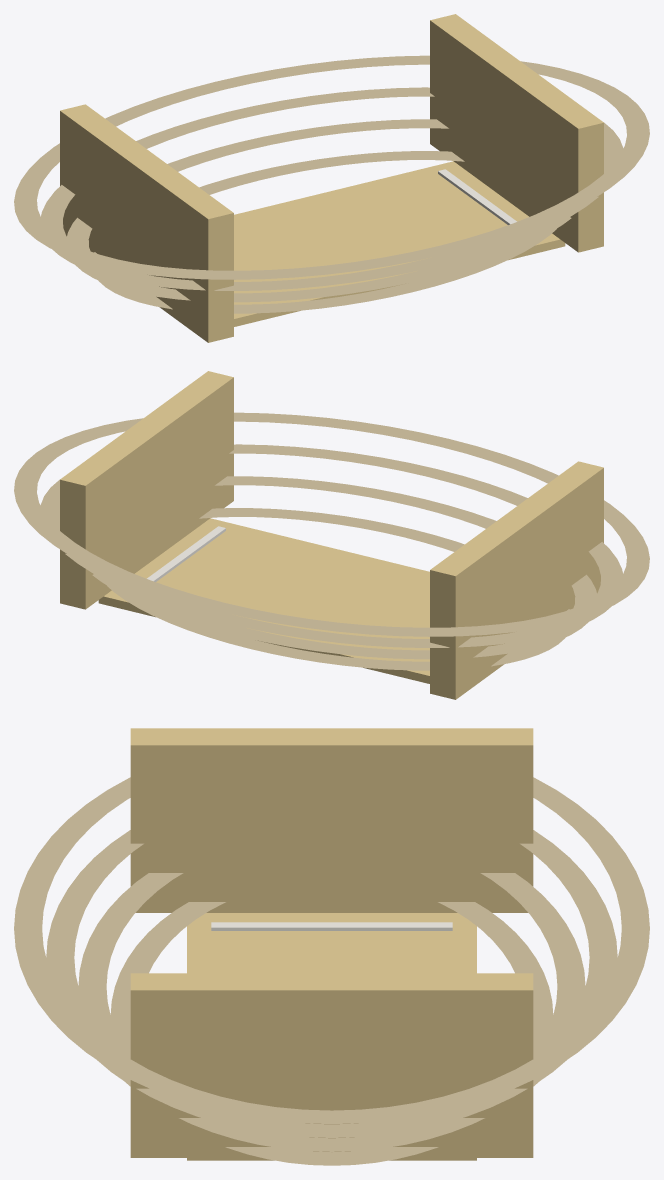
Rendered from building_tlachtli.fbx.
3 renders of one model, top to bottom at view 1: azimuth 30°, elevation 25°; view 2: azimuth 150°, elevation 25°; view 3: azimuth 270°, elevation 25°, orthographic. The views are drawn at different scales.
Parts seen in each view (by area): view 1: building_tlachtli; view 2: building_tlachtli; view 3: building_tlachtli.
Boxes of the visible parts, bbox=[...] form: building_tlachtli: bbox=[14, 14, 649, 342]; building_tlachtli: bbox=[14, 371, 649, 699]; building_tlachtli: bbox=[14, 728, 649, 1165].
Size of the model in its own units: 115 by 25 by 79.
